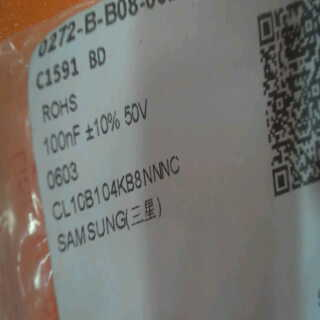100nF: (41, 120, 83, 157)
